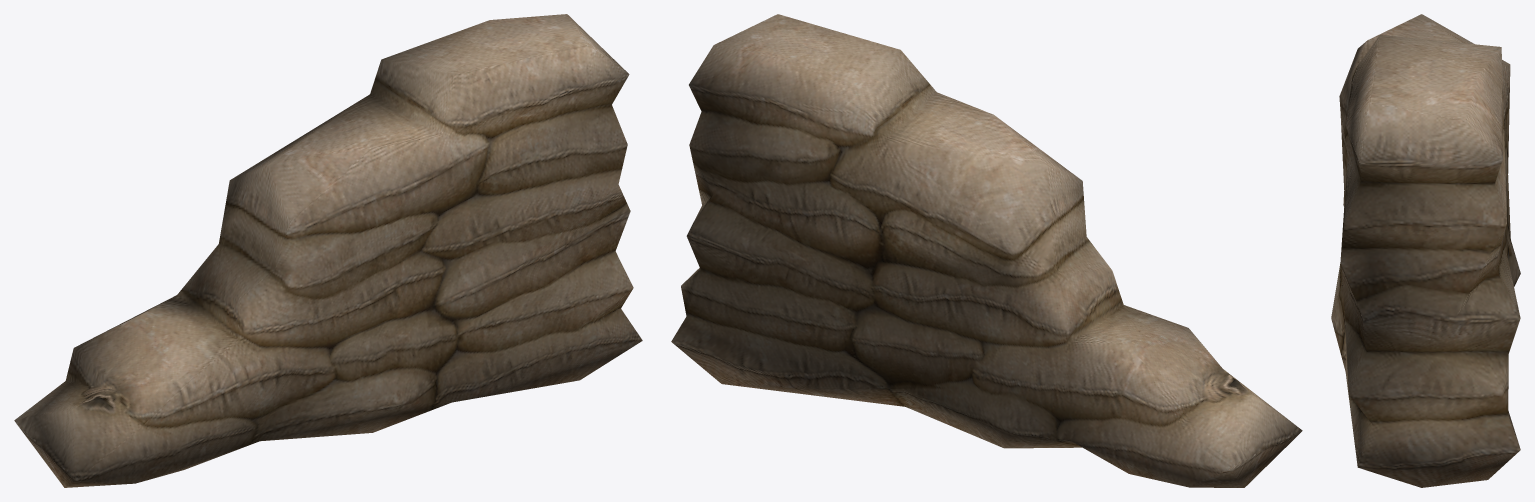
File: Sandbags_1A_LOD1.fbx
3 views of the same model, side by side, from view 1: azimuth 30°, elevation 25°; view 2: azimuth 150°, elevation 25°; view 3: azimuth 270°, elevation 25° (orthographic). The views are drawn at different scales.
Parts seen in each view (by area): view 1: polySurface226; view 2: polySurface226; view 3: polySurface226.
Part boxes in pixels (box(x1,y1,x2,y2)): polySurface226: box(14, 14, 642, 487); polySurface226: box(671, 14, 1302, 487); polySurface226: box(1331, 14, 1520, 487).
Bounding box in the file's own units: 2.02 × 1.15 × 0.5207.
